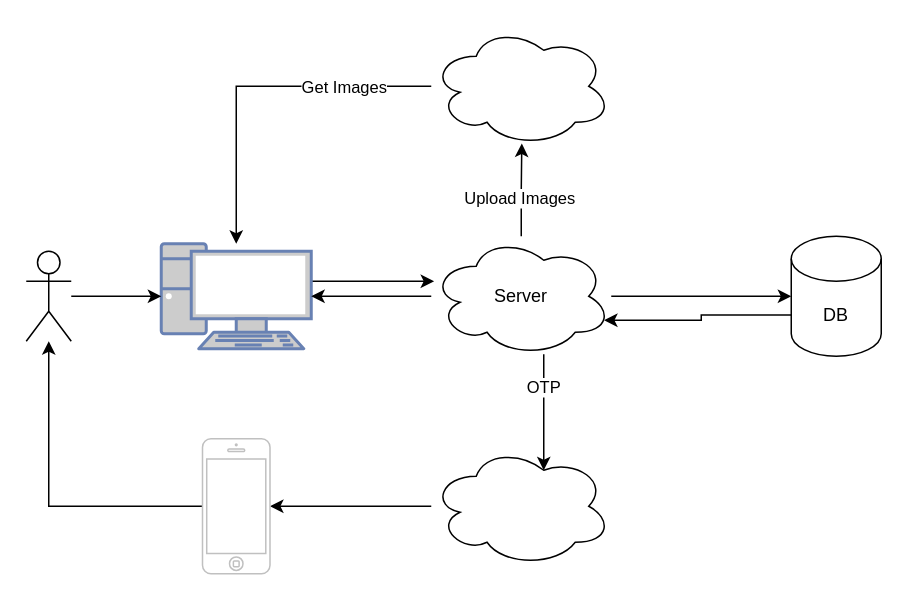
Some shapes in this 908 by 600 pixel diagram are drawn without their labels. Here are the shapes that lost their labels. From the top down, the centre of each, then its label:
(x=520, y=85): Cloudinary
(x=520, y=505): Twillio
